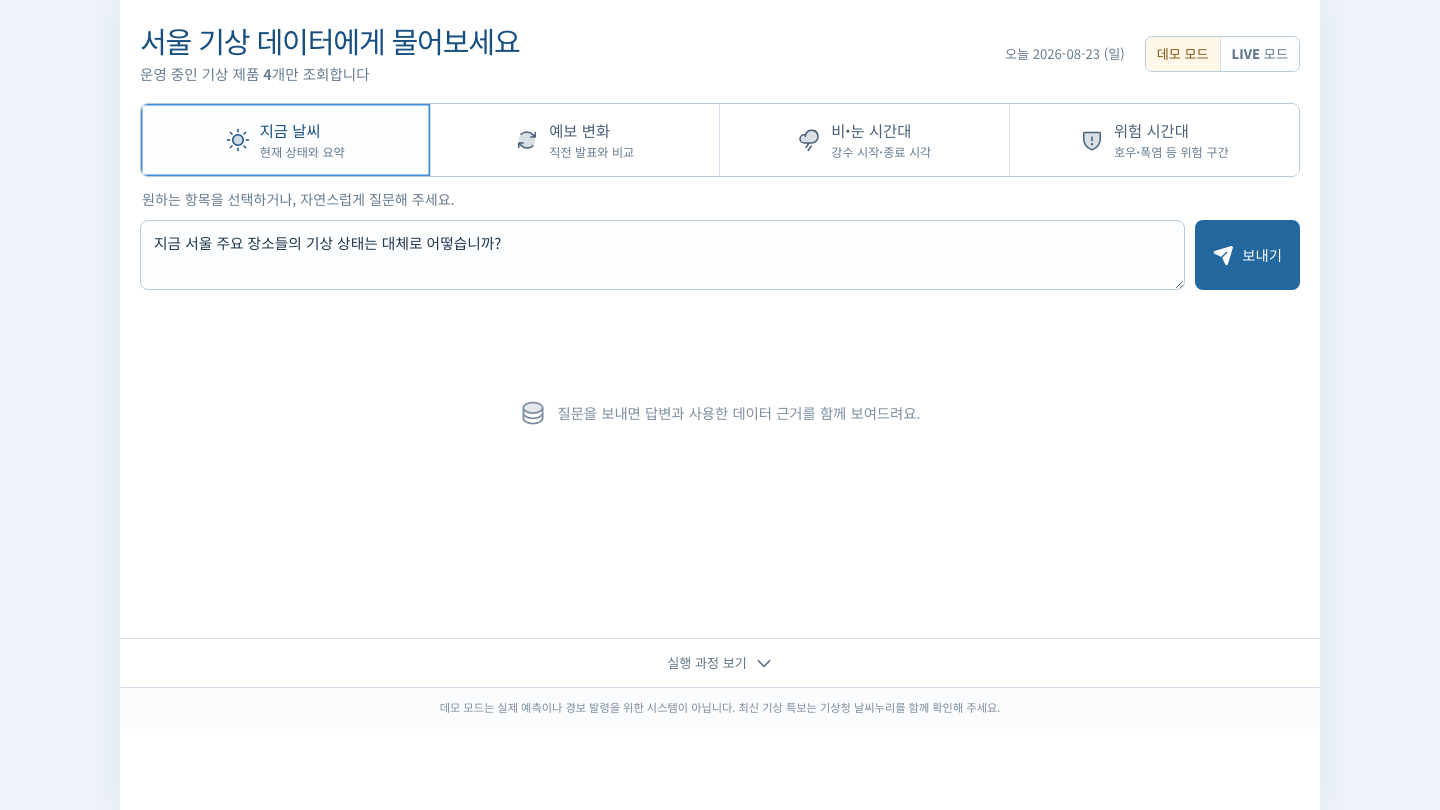
Test: ASK Seoul 기상 에이전트 UI › 영문 upstream 오류를 한국어 사용자에게 노출하지 않는다
Expected: the navigation bar named "기상 질문 유형" is shown, x1=140 y1=103 x2=1300 y2=177
Click the button with aria-label "질문 보내기": (1248,255) x1=1195 y1=220 x2=1300 y2=290
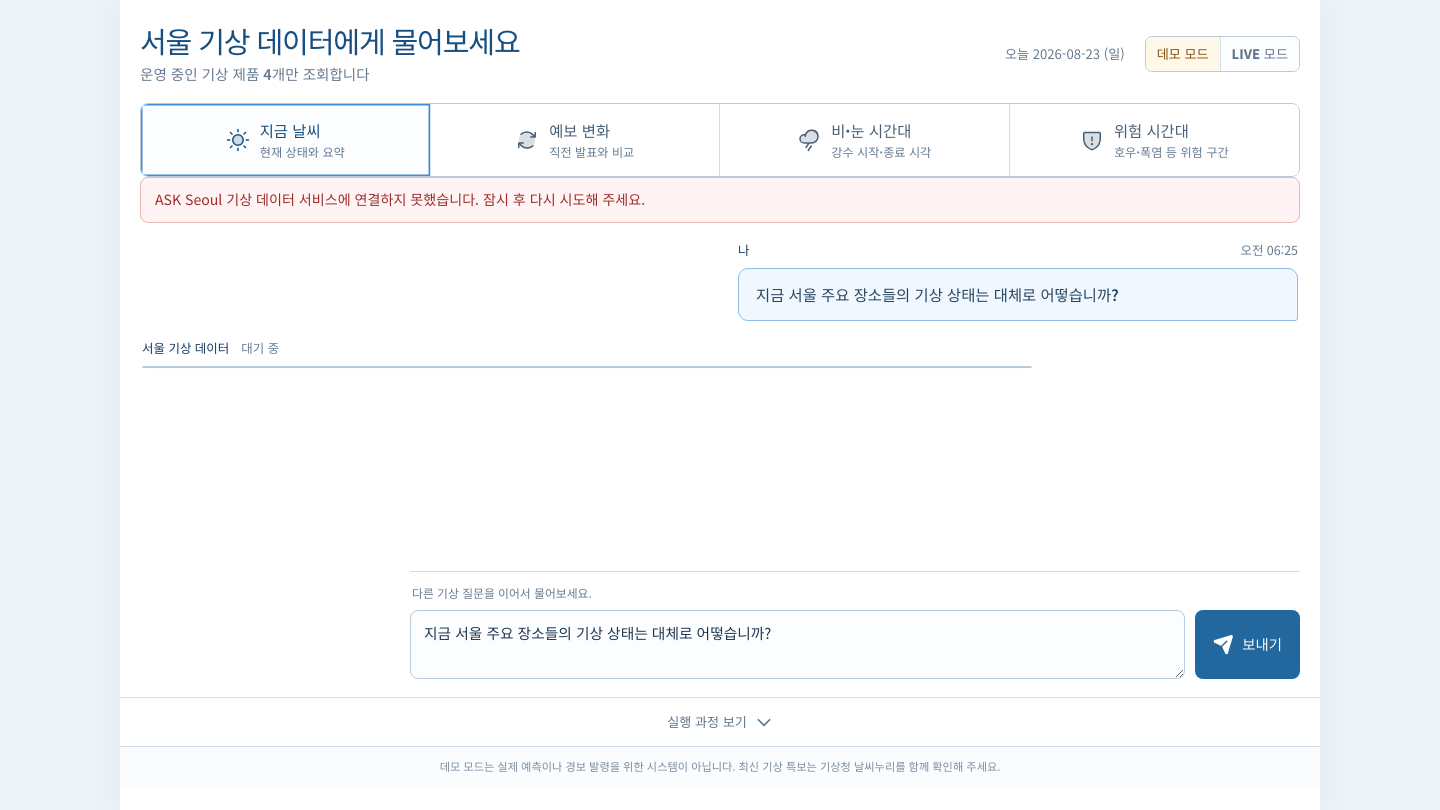
Expected: the message "ASK Seoul 기상 데이터 서비스에 연결하지 못했습니다. 잠시 후 다시 시도해 주세요." does not show "Upstream request timed out.", x1=140 y1=177 x2=1300 y2=223
Now the message "ASK Seoul 기상 데이터 서비스에 연결하지 못했습니다. 잠시 후 다시 시도해 주세요." is shown, box x1=140 y1=177 x2=1300 y2=223
